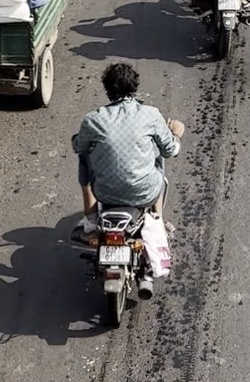BikeWithRider: (65, 58, 189, 328)
NoHelmet: (92, 58, 146, 111)
